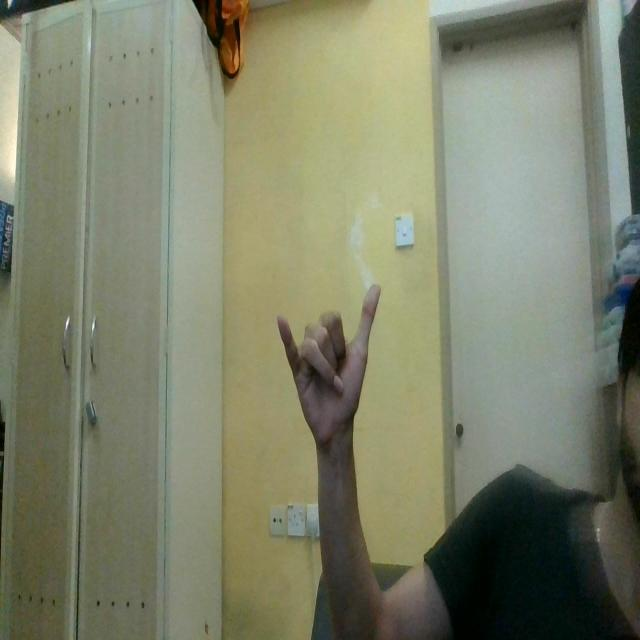shaka: (276, 280, 382, 466)
